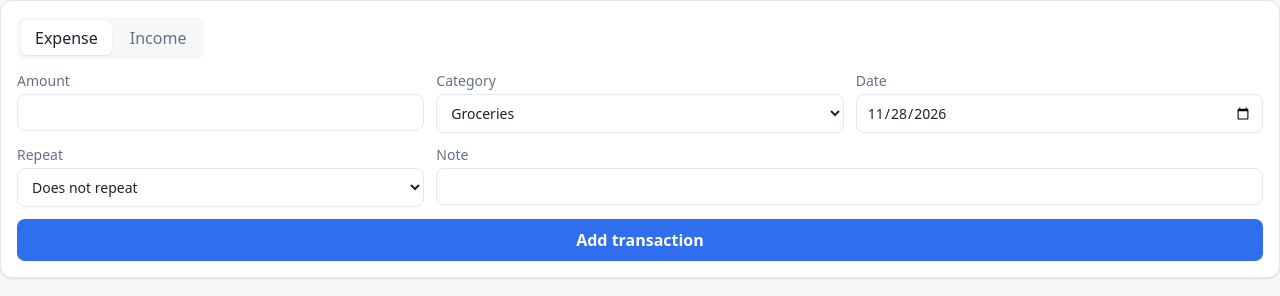
Test: TransactionForm › switching to income offers income categories
What coordinates should you click on to do the following:
click the radio button labelled "Income"
I would click on:
 (158, 38)
Its box is [116,21,200,55].
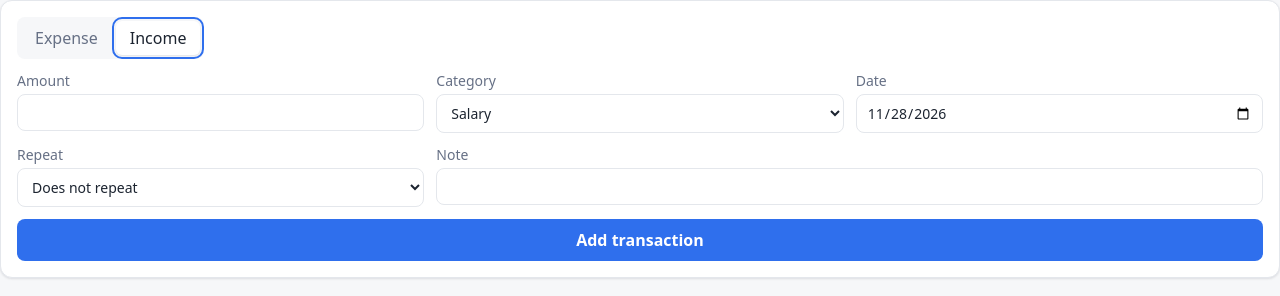
Expected: the option "Groceries" is not shown
Expected: the dropdown labelled "Category" shows "Salary", [436,94,844,133]
